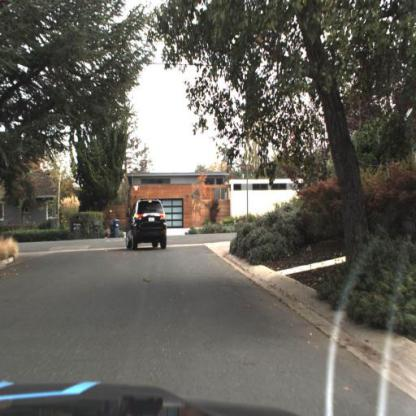car: (120, 188, 168, 261)
